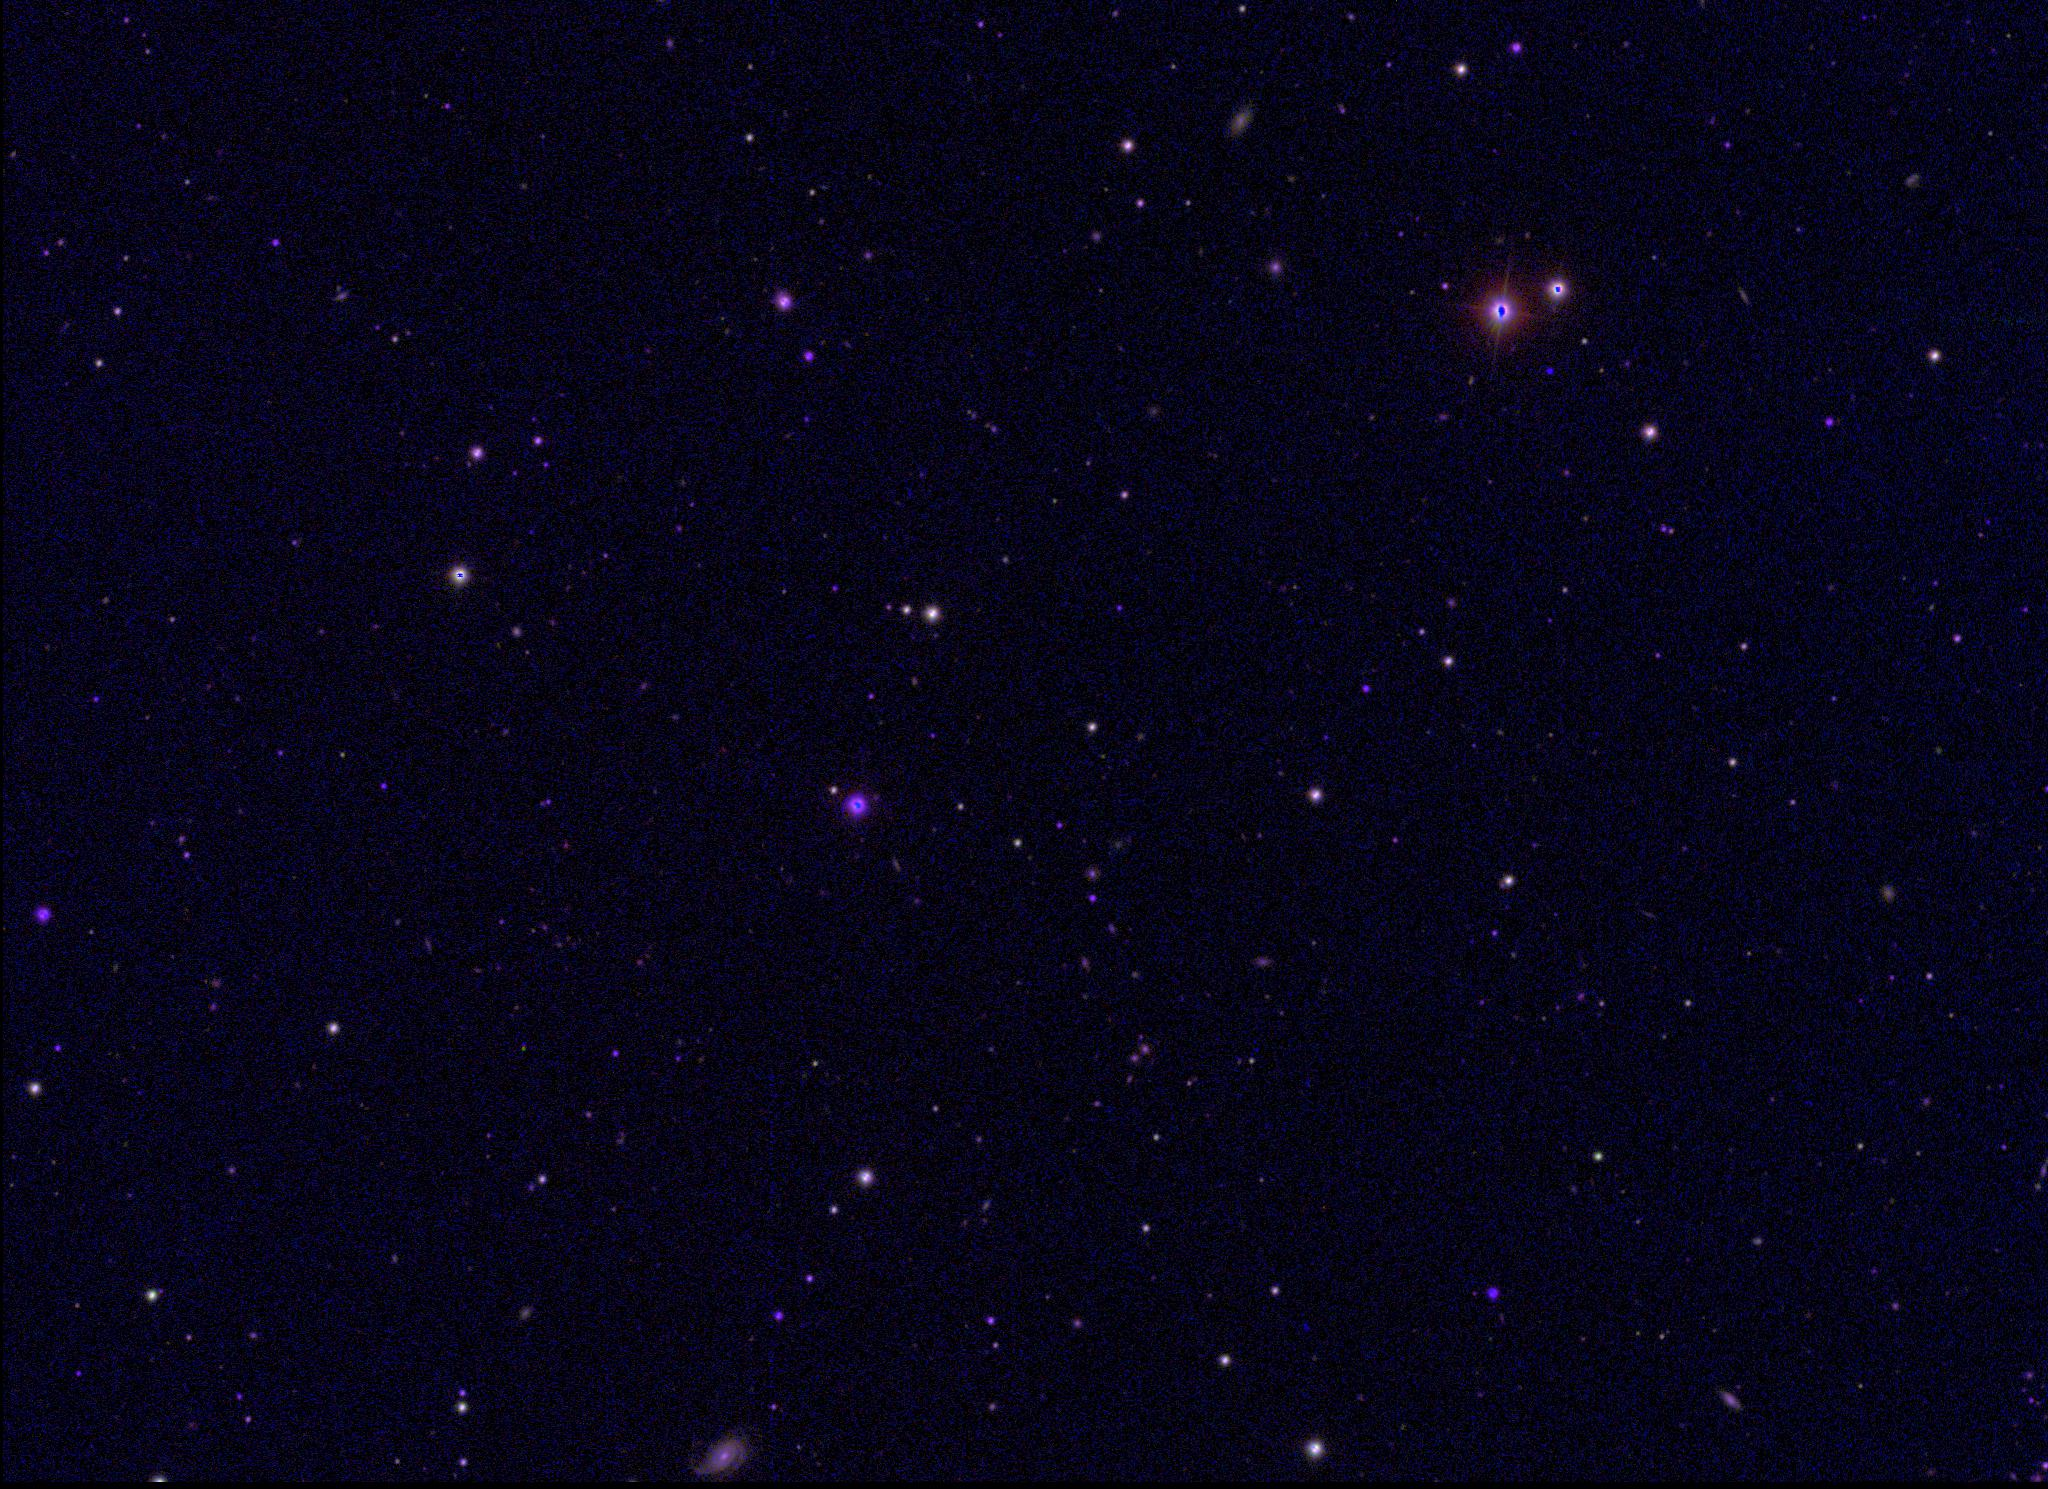L: (1542, 364, 1557, 379)
